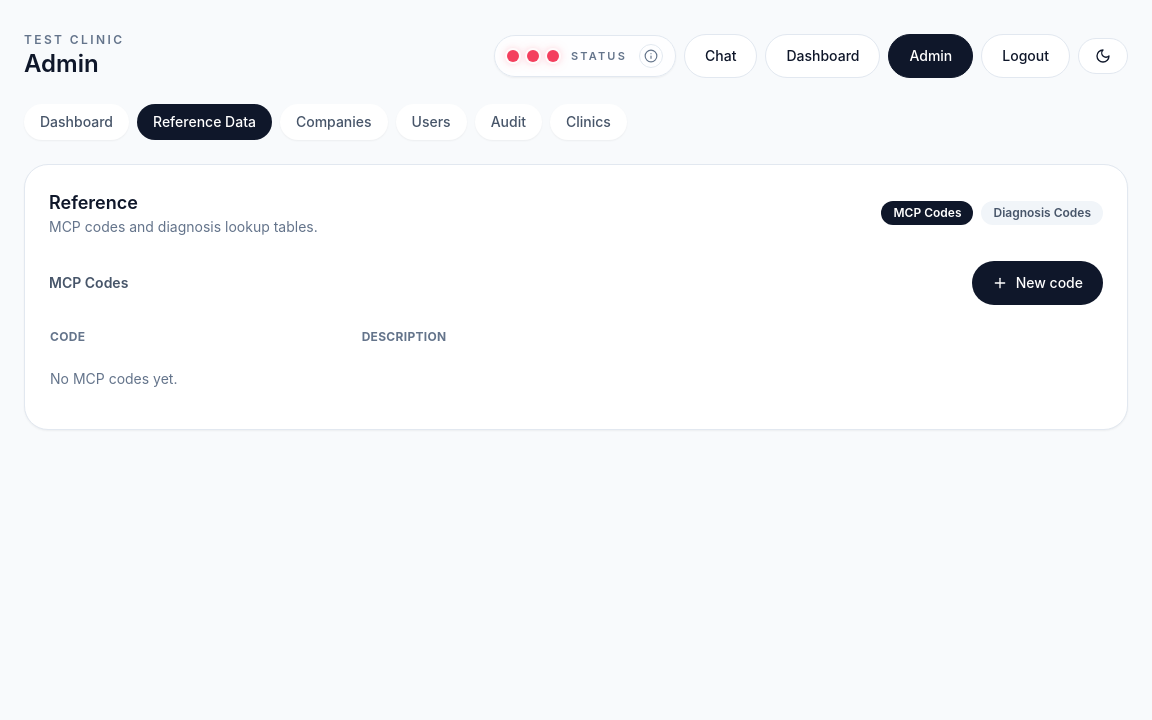
admin ui › company create omits slug field and submits without it
The width and height of the screenshot is (1152, 720).
Click the button "Companies". click: (334, 122)
box: [280,104,388,140]
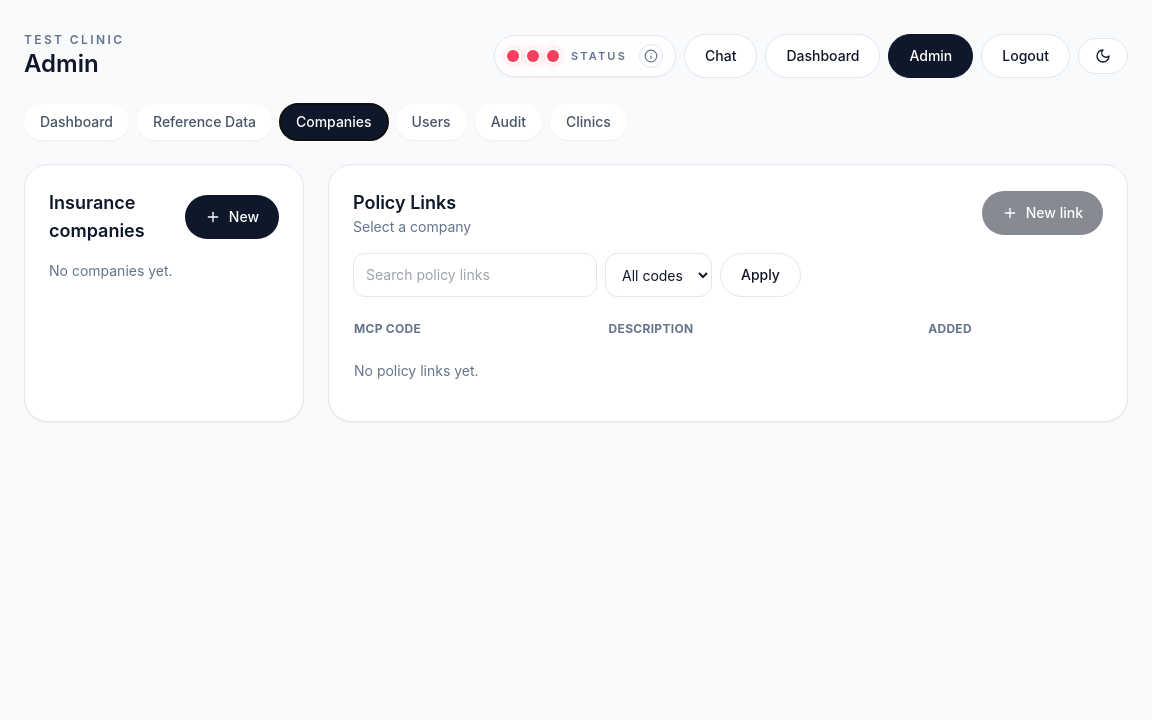
Click the button "New". click: (232, 217)
box: [185,195,279,239]
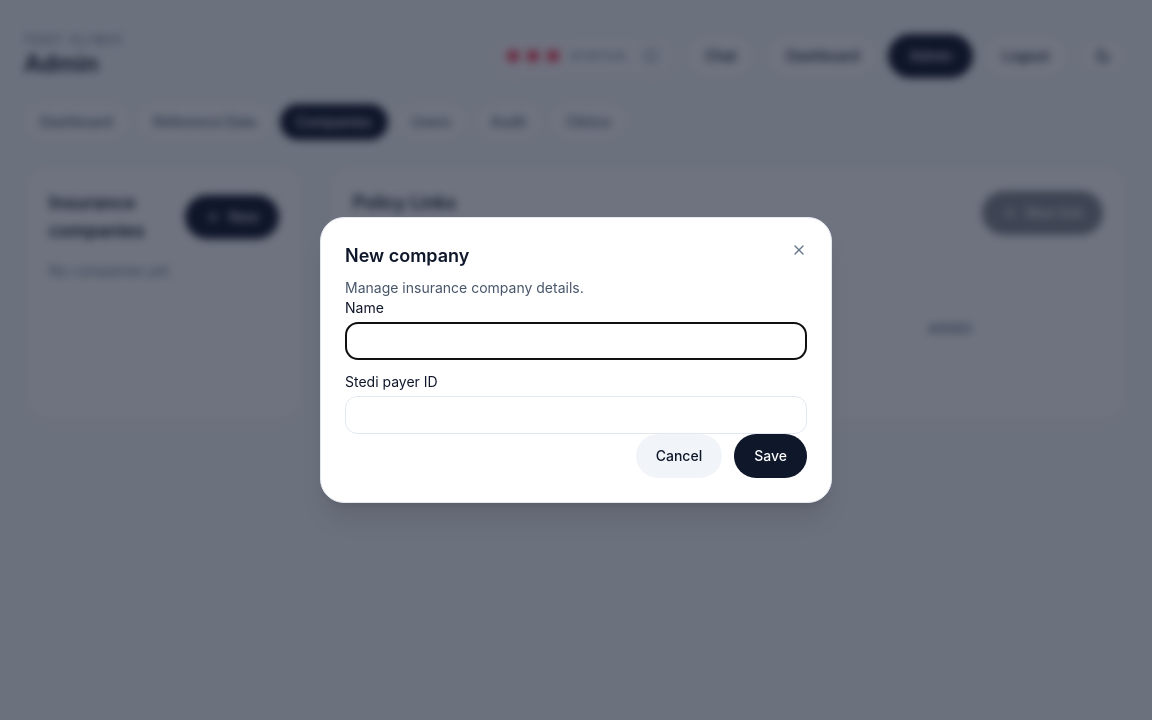
Check: the field labelled "Name" is shown
Type "Alpha Health" into the field labelled "Name". click: (576, 341)
box: [345,322,807,360]
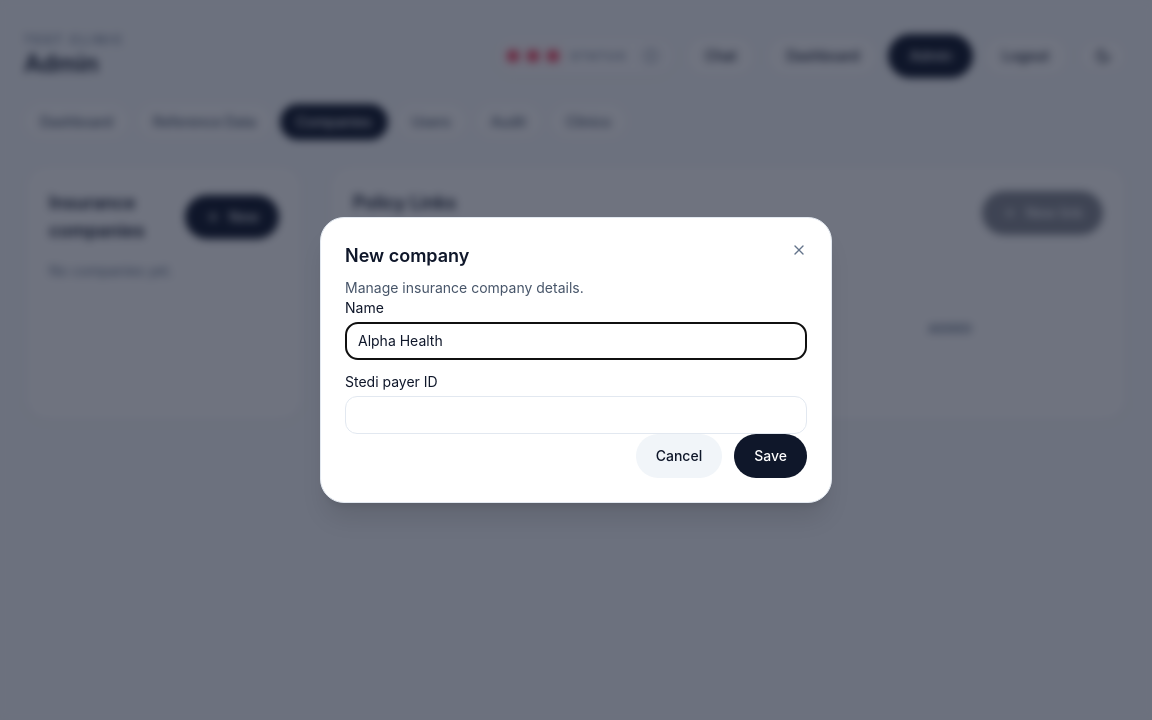
Click the button "Save". click: (771, 456)
box: [734,434,807,478]
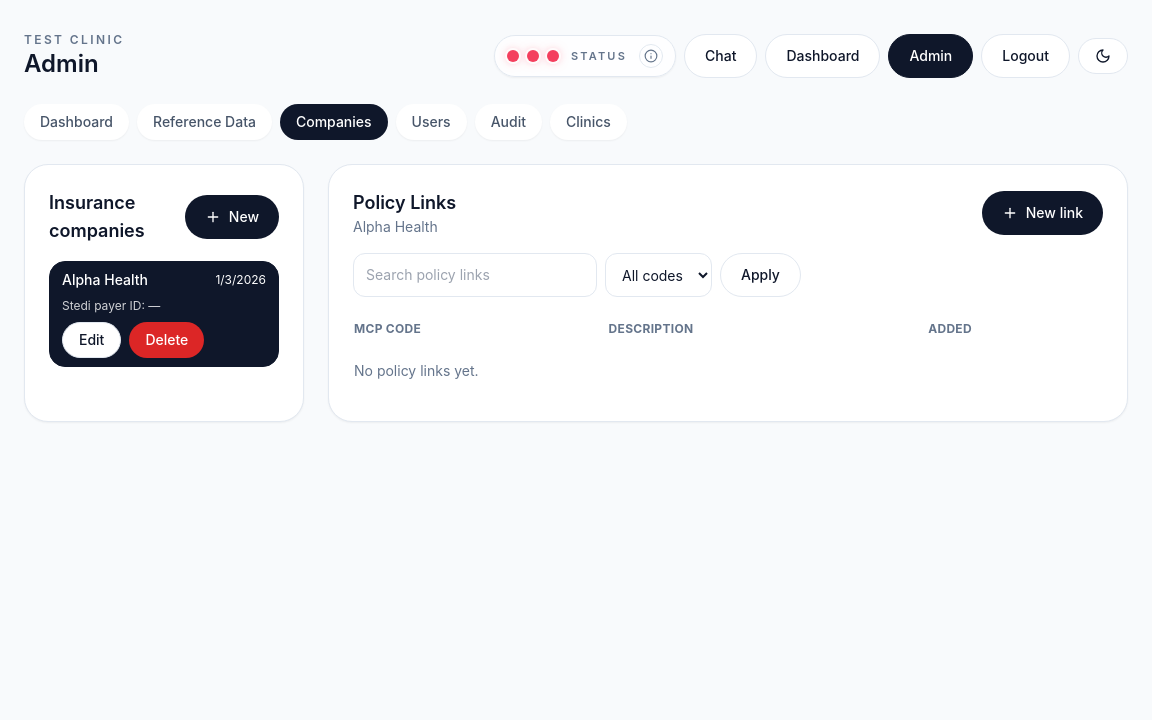
Check: the text "Alpha Health" next to "1/3/2026" is shown, box [62,271,148,288]
